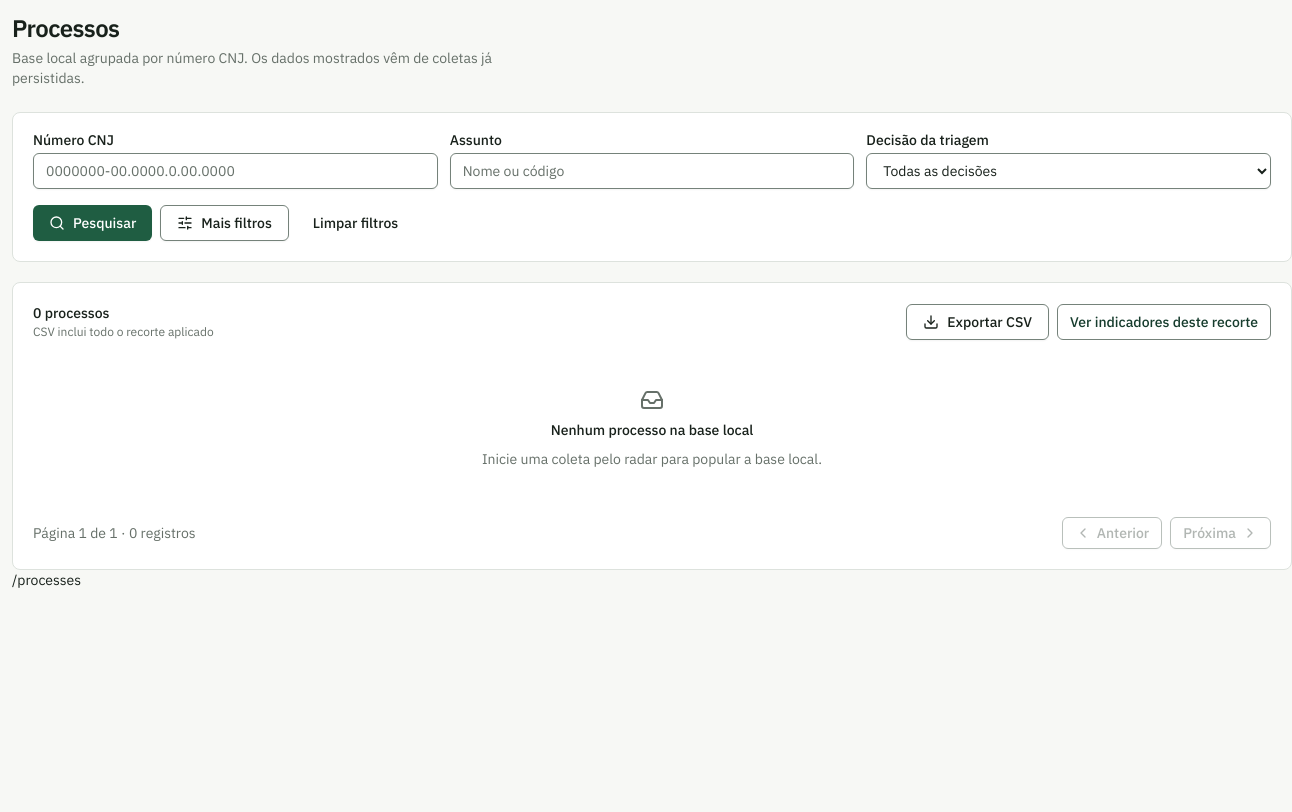
Test case: ProcessesPage › submits the process search while a CNJ suggestion is open
Type "0112556-70.2014.8.09.0181" into the dropdown labelled "Número CNJ".
click(235, 171); type("0112556-70.2014.8.09.0181")  # box top-left (33, 153), bottom-right (438, 189)
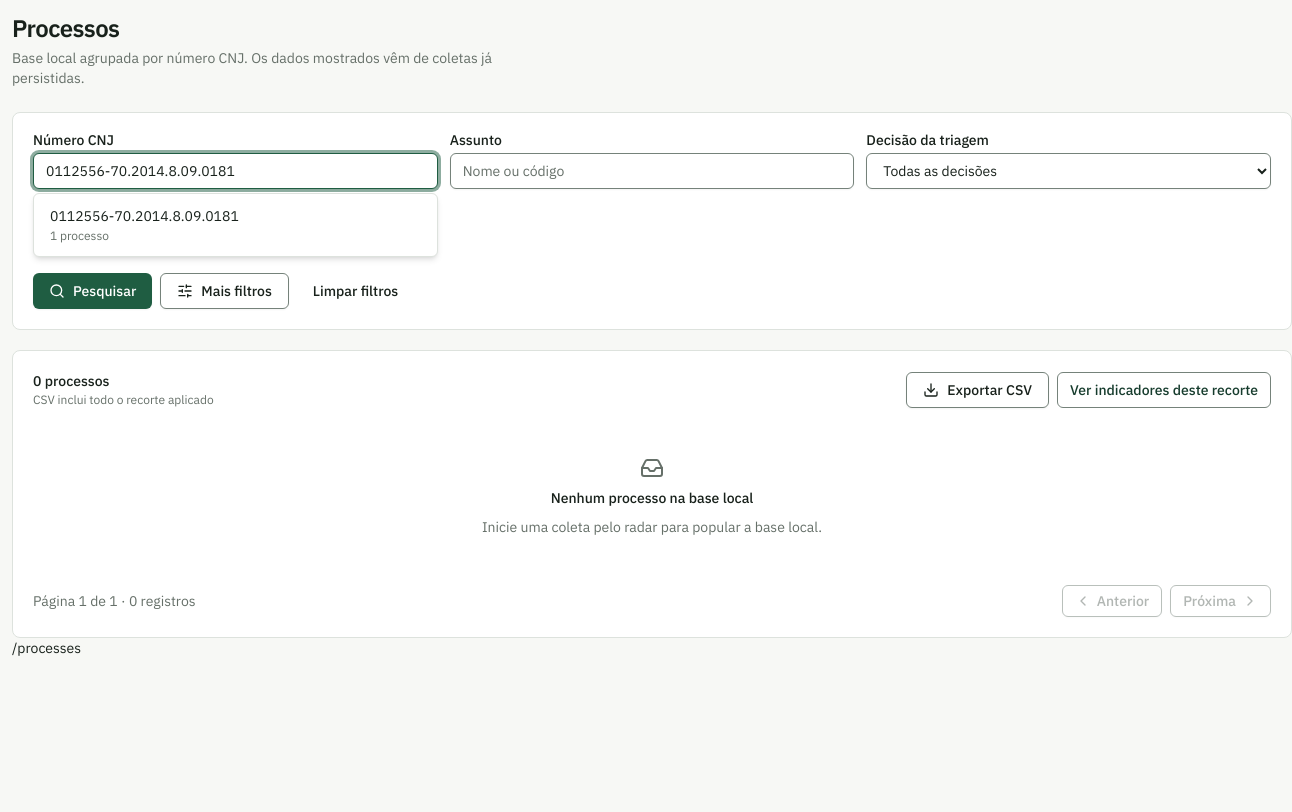
Check: the option "0112556-70.2014.8.09.0181 1 processo" is shown, box top-left (38, 198), bottom-right (433, 252)
Click the button "Pesquisar".
click(93, 291)  # box top-left (33, 273), bottom-right (152, 309)
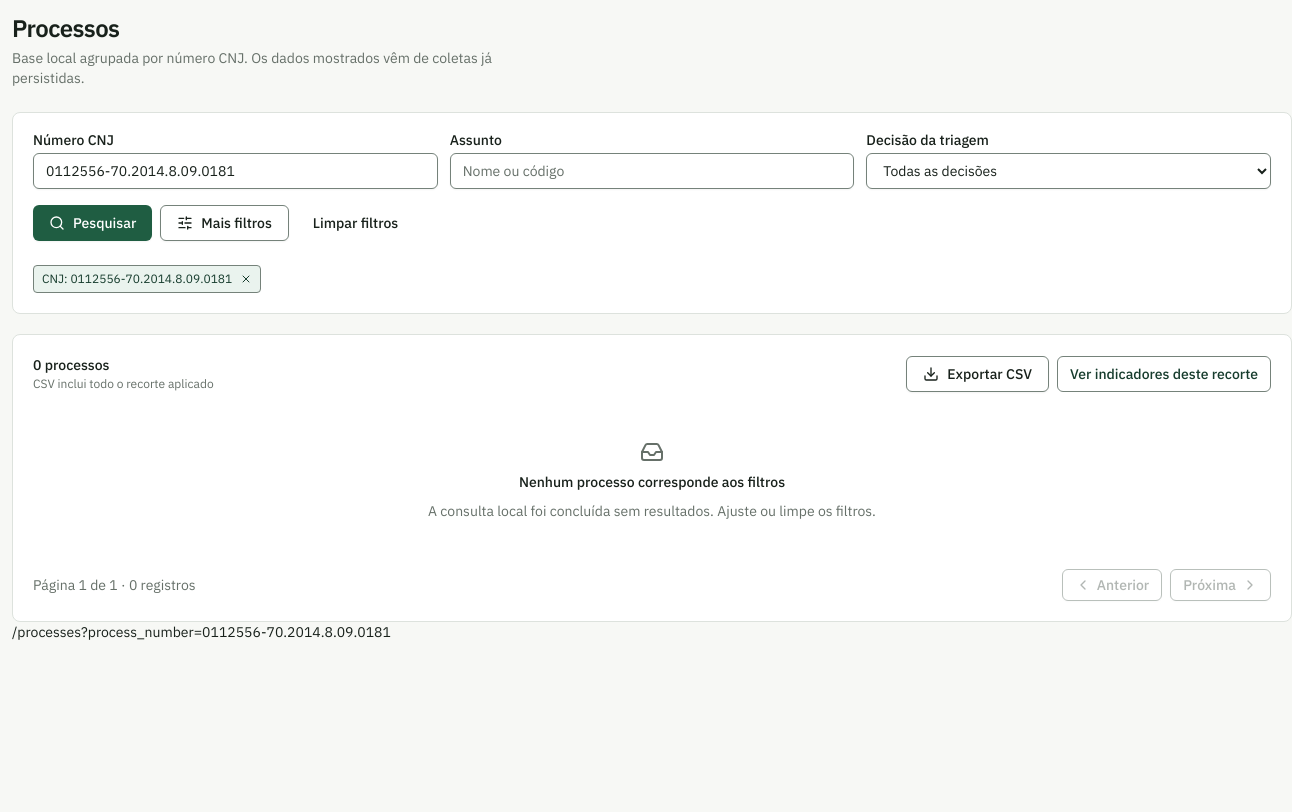
Check: the text with test id "location" shows "process_number=0112556-70.2014.8.09.0181", box top-left (12, 623), bottom-right (391, 641)
